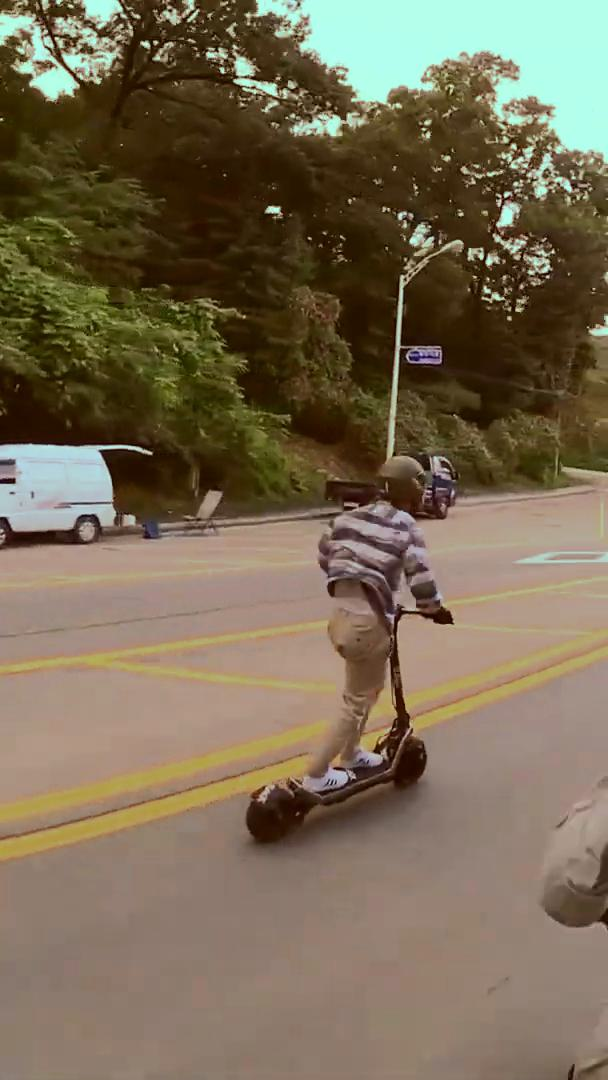helmet: (243, 451, 459, 849)
